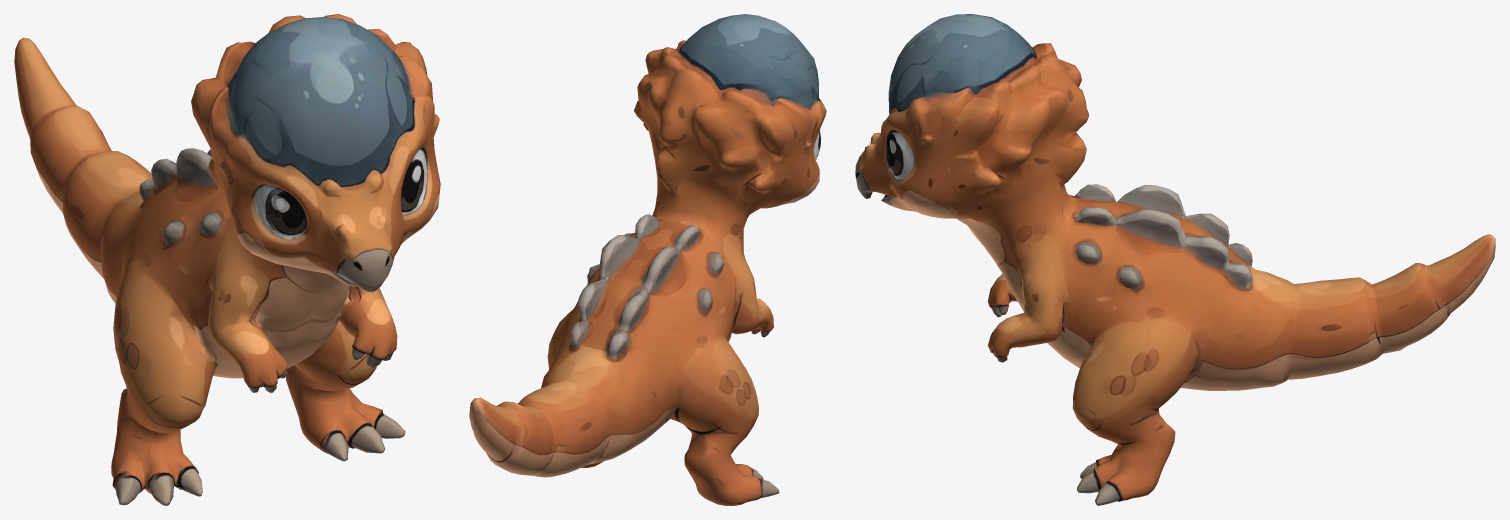
3 renders of one model, left to right at view 1: azimuth 30°, elevation 25°; view 2: azimuth 150°, elevation 25°; view 3: azimuth 270°, elevation 25°, orthographic. The views are drawn at different scales.
Size of the model in its own units: 0.4058 by 0.6938 by 0.9531.
1 material, 1 textured.
